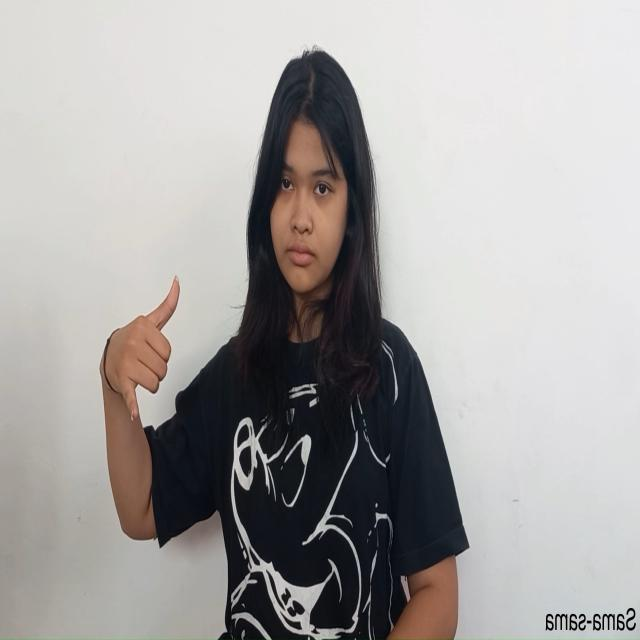Sama-sama -BISINDO-: (98, 274, 182, 422)
